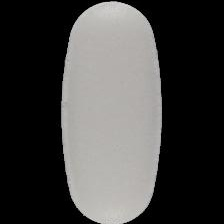63187-035: (0, 0, 224, 224)
